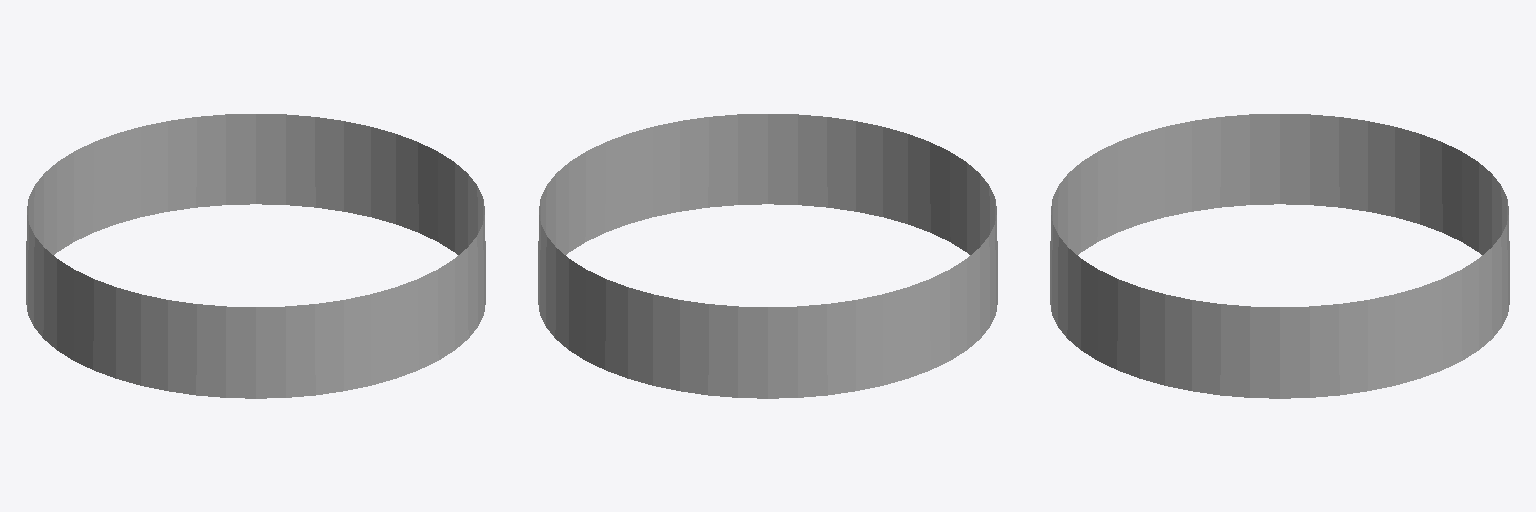
File: border.obj
3 renders of one model, left to right at view 1: azimuth 30°, elevation 25°; view 2: azimuth 150°, elevation 25°; view 3: azimuth 270°, elevation 25°, orthographic.
Parts seen in each view (by area): view 1: Circle; view 2: Circle; view 3: Circle.
Part boxes in pixels (x1,y1,x2,y2): Circle: (26, 114, 485, 398); Circle: (538, 114, 997, 398); Circle: (1050, 114, 1509, 398).
Bounding box in the file's own units: 2.5 × 0.5463 × 2.5.